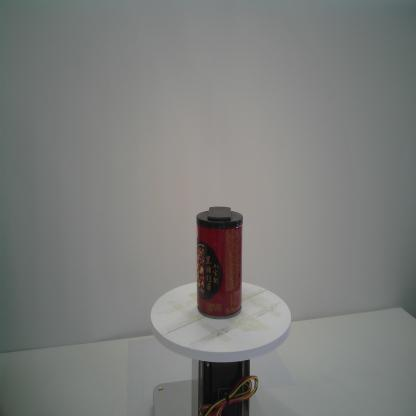Canned Food: (196, 206, 244, 322)
